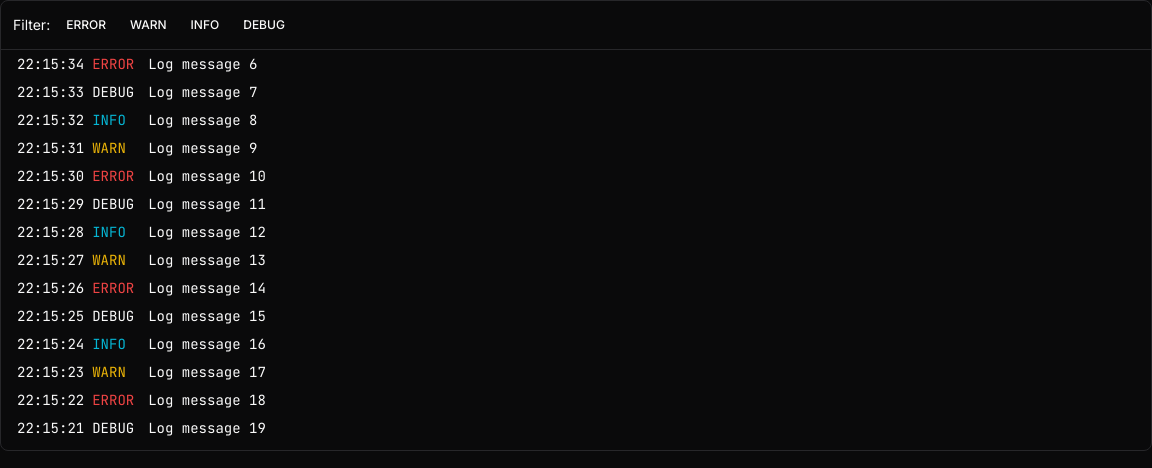
Test: LogStream › supports multiple level filters
The width and height of the screenshot is (1152, 468).
(page scrolled)
Click the button with test id "filter-error": (86, 25) [58,13,114,37]
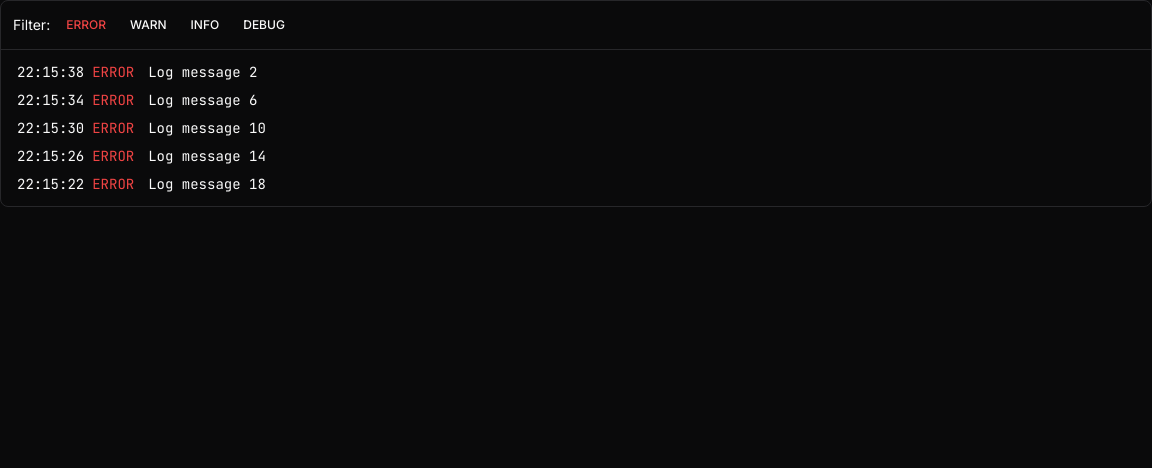
Click the button with test id "filter-warn": (148, 25) [122,13,175,37]
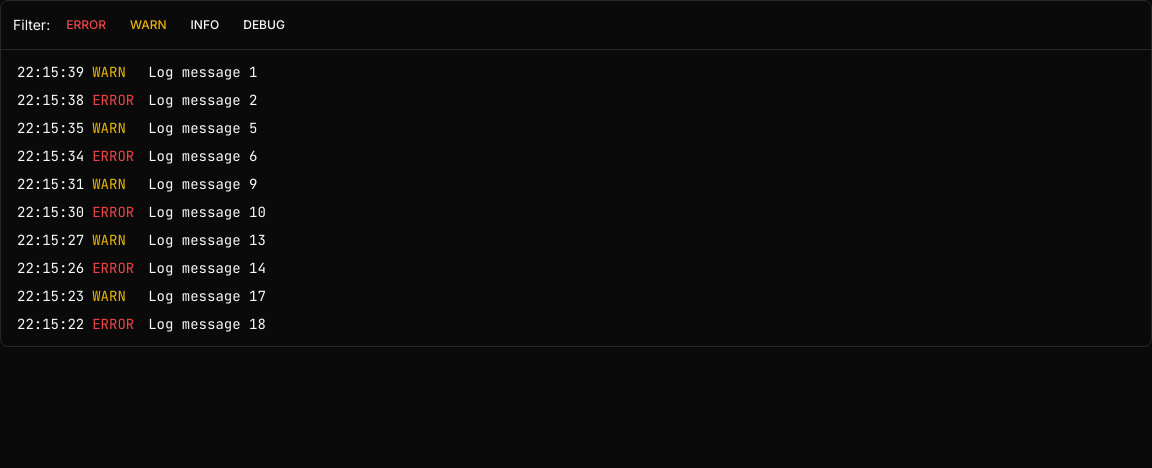
expect the element with test id "log-entry" reads "22:15:38 ERROR Log message 2": met, box [92,91,134,109]
expect the element with test id "log-entry" reads "22:15:39 WARN Log message 1": met, box [92,63,126,81]
expect the element with test id "log-entry" reads "22:15:35 WARN Log message 5": met, box [92,119,126,137]
